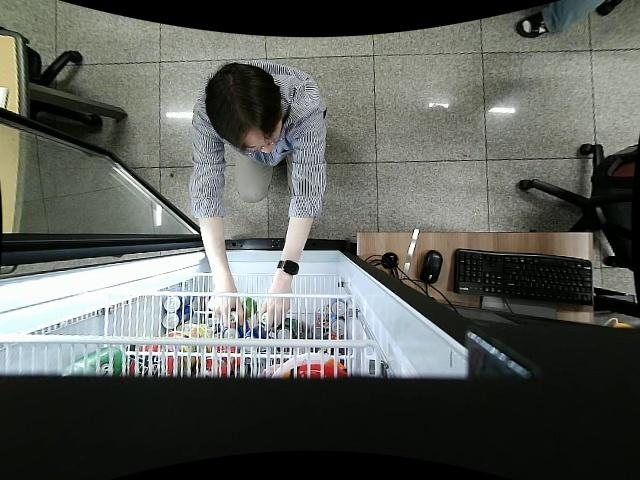00_hand: (208, 287, 245, 328), (258, 288, 292, 330)
19_17cha: (230, 298, 256, 323)
